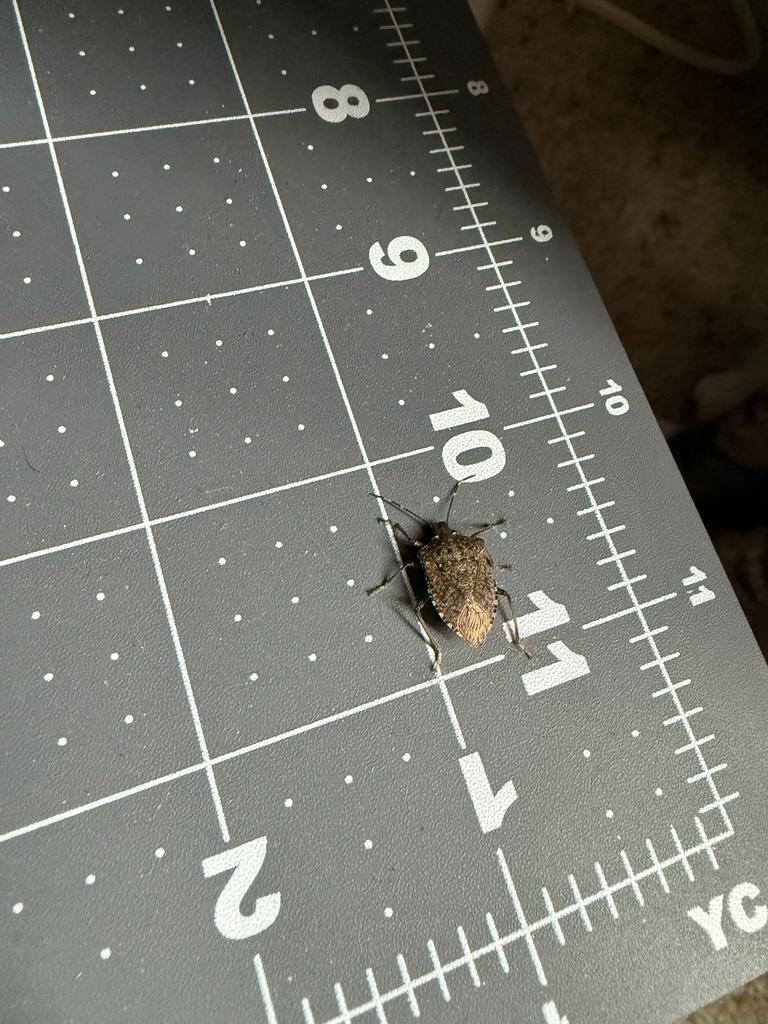stink_bugs: (327, 449, 569, 706)
